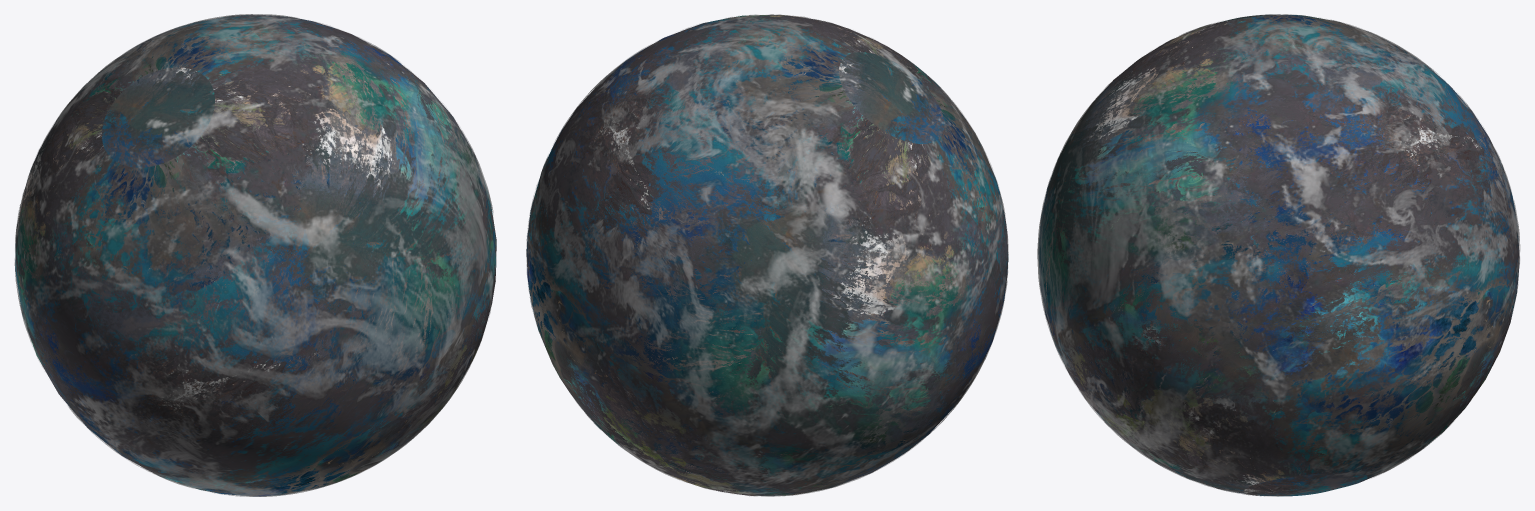
Rendered from planet3d.glb.
The picture shows the model from 3 angles, left to right: view 1: azimuth 30°, elevation 25°; view 2: azimuth 150°, elevation 25°; view 3: azimuth 270°, elevation 25°; orthographic projection.
Visible parts, largest first — view 1: planet_02 - Default_0, clouds; view 2: planet_02 - Default_0, clouds; view 3: planet_02 - Default_0, clouds.
Boxes of the visible parts, x1,y1,x2,y2 form: planet_02 - Default_0: (15, 14, 496, 496); clouds: (14, 14, 493, 496); planet_02 - Default_0: (526, 15, 1008, 495); clouds: (526, 14, 1008, 496); planet_02 - Default_0: (1038, 14, 1519, 496); clouds: (1037, 14, 1520, 496).
Size of the model in its own units: 81.28 by 81.3 by 81.35.
2 materials, 2 textured.
